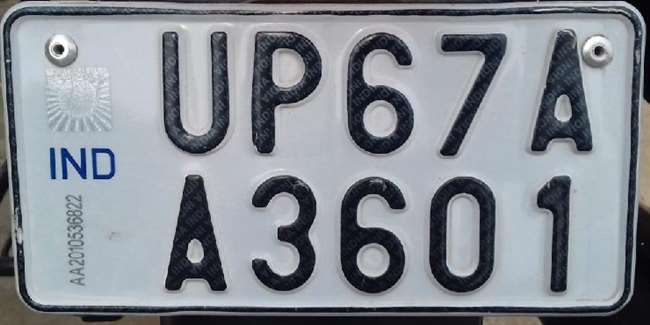doublelinenumberplate: (2, 1, 640, 316)
